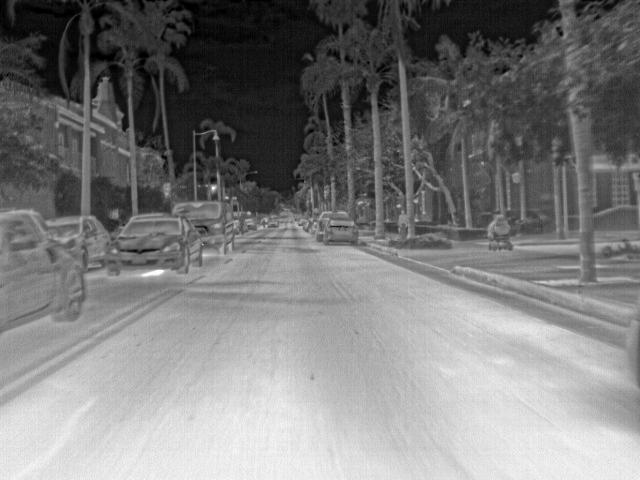car: (0, 208, 87, 336), (122, 211, 202, 275), (43, 213, 108, 270), (174, 199, 236, 256), (316, 209, 350, 239), (322, 218, 358, 244), (308, 220, 321, 234), (243, 218, 256, 232), (234, 220, 246, 234), (301, 220, 314, 232), (268, 218, 280, 230), (259, 215, 272, 226)
person: (105, 228, 123, 276), (488, 213, 510, 234), (396, 207, 409, 237)
